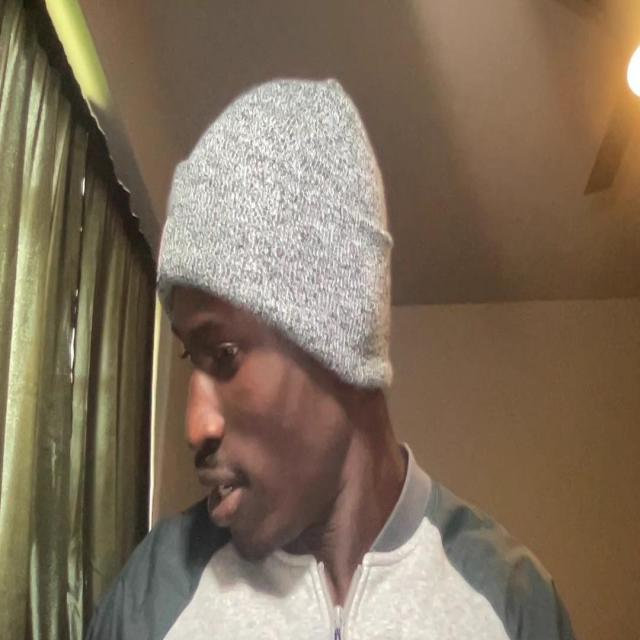face: (162, 117, 389, 562)
